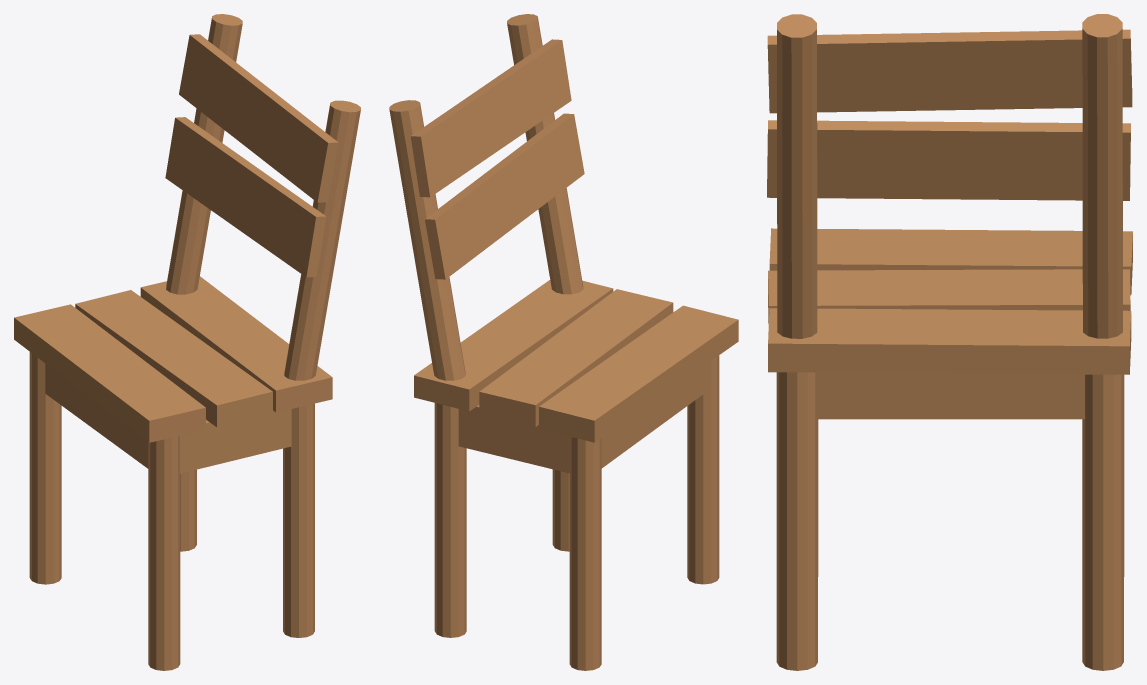
The model's file is 2021-08-05_Chair.fbx.
The picture shows the model from 3 angles, left to right: view 1: azimuth 30°, elevation 25°; view 2: azimuth 150°, elevation 25°; view 3: azimuth 270°, elevation 25°; orthographic projection. The views are drawn at different scales.
Parts seen in each view (by area): view 1: Sit 1, Back 1.001, Back 1, Sit 2, Sit 3, Leg 2, Base, Top Frame 2, Leg 1, Leg 3, Top Frame 1, Leg 4; view 2: Sit 1, Back 1, Back 1.001, Sit 2, Sit 3, Leg 3, Base, Leg 4, Top Frame 1, Leg 2, Top Frame 2, Leg 1; view 3: Back 1.001, Back 1, Sit 3, Top Frame 1, Top Frame 2, Base, Leg 1, Leg 4, Sit 1, Sit 2.
Boxes of the visible parts, left/top/right/bottom form: Sit 1: left=14, top=304, right=205, bottom=442; Back 1.001: left=179, top=34, right=338, bottom=202; Back 1: left=165, top=117, right=326, bottom=277; Sit 2: left=75, top=290, right=272, bottom=427; Sit 3: left=140, top=276, right=332, bottom=412; Leg 2: left=148, top=436, right=180, bottom=670; Base: left=45, top=364, right=291, bottom=473; Top Frame 2: left=284, top=100, right=360, bottom=380; Leg 1: left=283, top=403, right=314, bottom=637; Leg 3: left=29, top=352, right=61, bottom=584; Top Frame 1: left=166, top=14, right=242, bottom=294; Leg 4: left=180, top=469, right=196, bottom=551; Sit 1: left=539, top=305, right=738, bottom=442; Back 1: left=424, top=113, right=584, bottom=279; Back 1.001: left=410, top=39, right=571, bottom=197; Sit 2: left=479, top=289, right=673, bottom=427; Sit 3: left=414, top=280, right=613, bottom=411; Leg 3: left=569, top=436, right=601, bottom=670; Base: left=458, top=366, right=704, bottom=473; Leg 4: left=434, top=403, right=466, bottom=637; Top Frame 1: left=389, top=100, right=465, bottom=380; Leg 2: left=687, top=355, right=719, bottom=584; Top Frame 2: left=507, top=14, right=583, bottom=294; Leg 1: left=552, top=469, right=569, bottom=551; Back 1.001: left=767, top=29, right=1132, bottom=113; Back 1: left=767, top=120, right=1130, bottom=200; Sit 3: left=768, top=308, right=1131, bottom=374; Top Frame 1: left=1082, top=14, right=1122, bottom=338; Top Frame 2: left=777, top=14, right=817, bottom=338; Base: left=815, top=372, right=1084, bottom=419; Leg 1: left=776, top=372, right=817, bottom=670; Leg 4: left=1082, top=374, right=1123, bottom=670; Sit 1: left=769, top=228, right=1132, bottom=295; Sit 2: left=768, top=269, right=1130, bottom=323.
Bounding box in the file's own units: 39.75 × 89.39 × 44.31.
